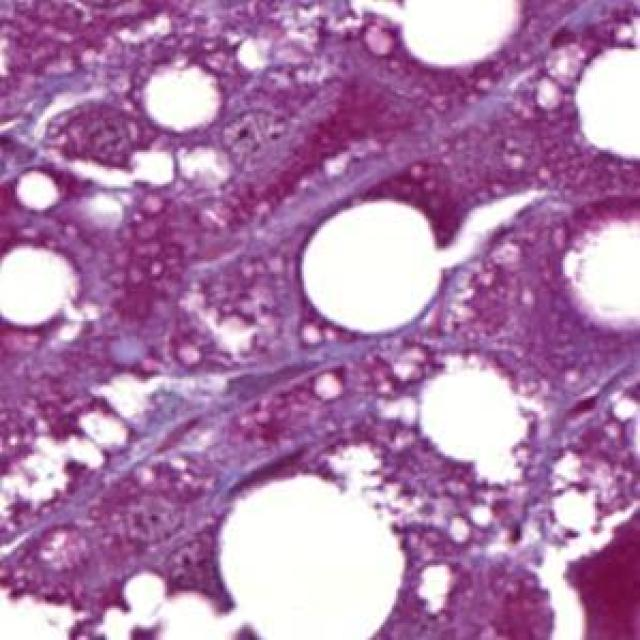steatosis: (302, 199, 454, 330)
